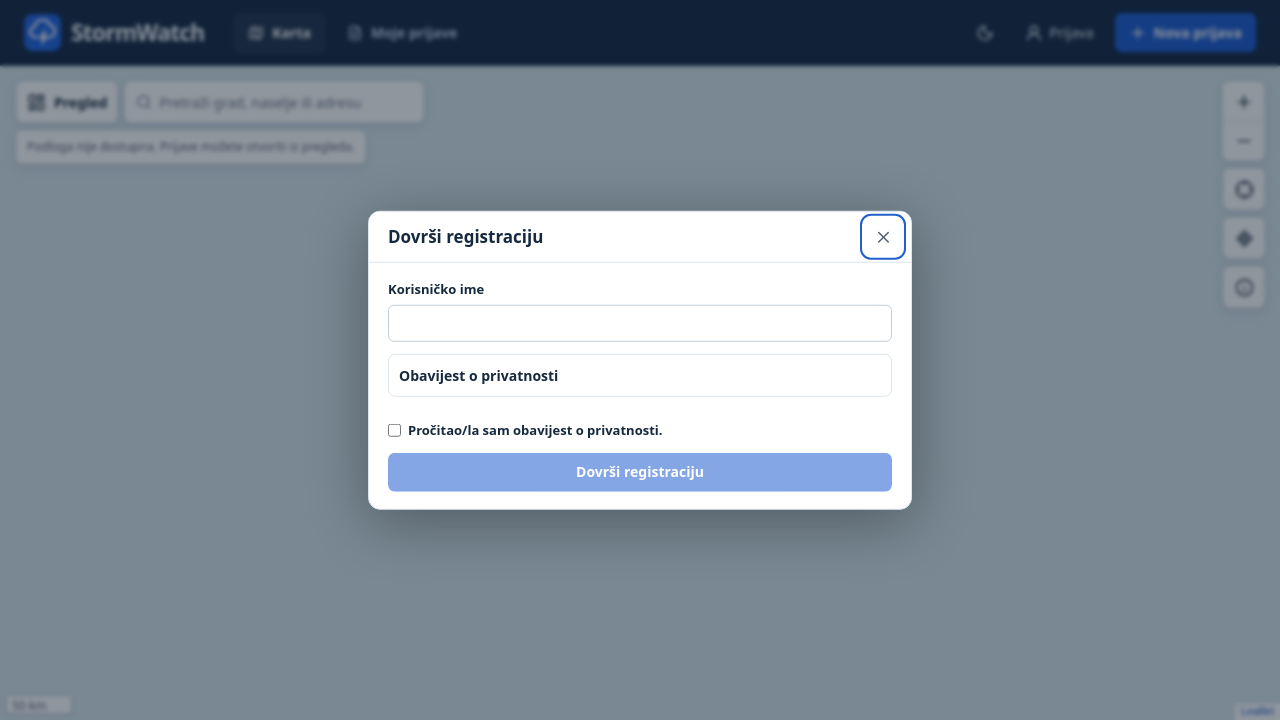
Test case: Google prijava i prva registracija › povratak s Googlea za novog korisnika otvara dovršetak registracije; nakon njega korisnik je prijavljen
Type "nova.osoba" into the field labelled "Korisničko ime".
click(640, 323); type("nova.osoba")  # box top-left (388, 304), bottom-right (892, 342)
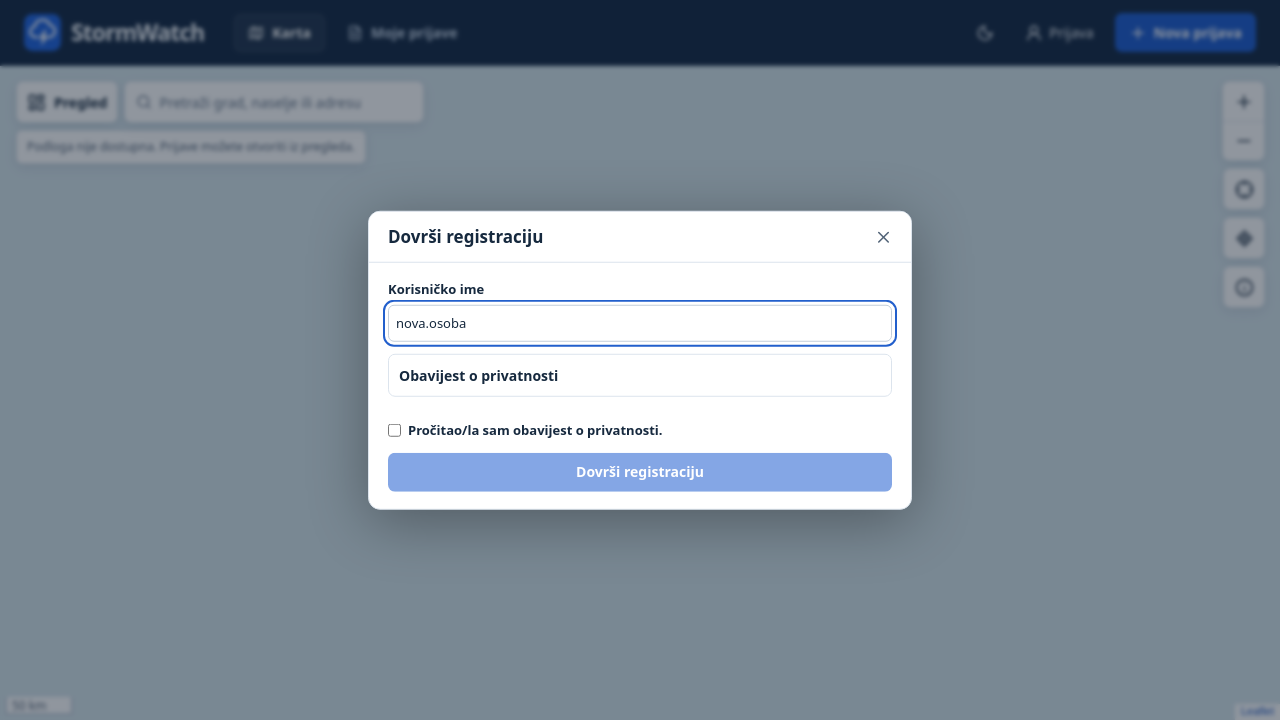
Check: the button "Dovrši registraciju" is disabled, box top-left (388, 452), bottom-right (892, 491)
Click the checkbox.
click(394, 430)  # box top-left (388, 424), bottom-right (401, 437)
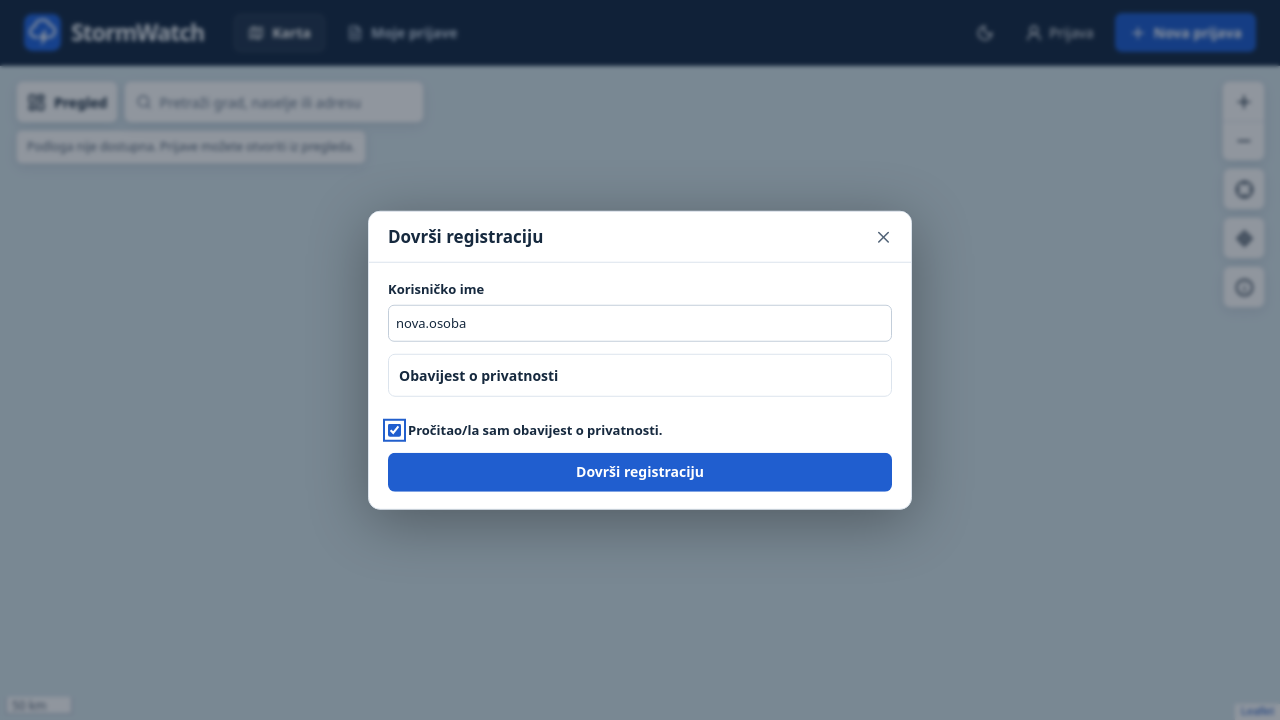
Click the button "Dovrši registraciju".
click(640, 472)  # box top-left (388, 452), bottom-right (892, 491)
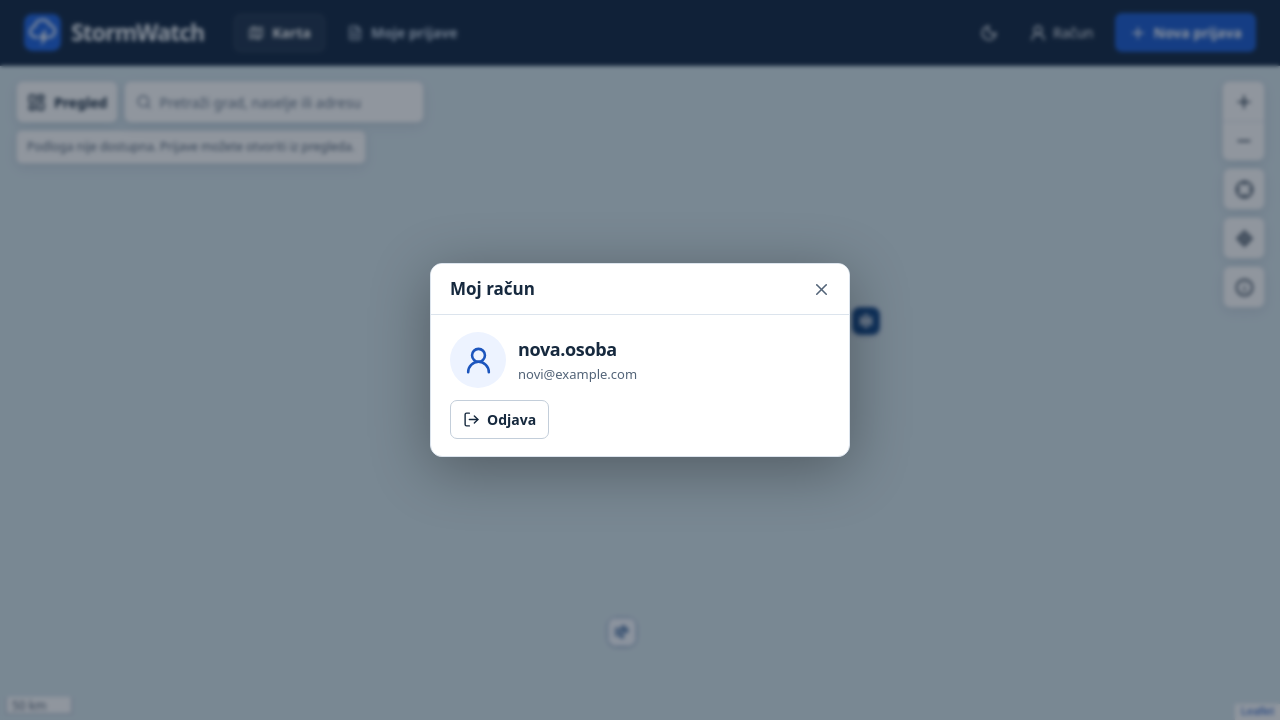
Check: the dialog "Moj račun" is shown, box top-left (430, 263), bottom-right (850, 457)
Check: the heading "nova.osoba" is shown, box top-left (518, 337), bottom-right (617, 361)
Check: the button with aria-label "Moj račun" is shown, box top-left (1019, 14), bottom-right (1104, 52)
